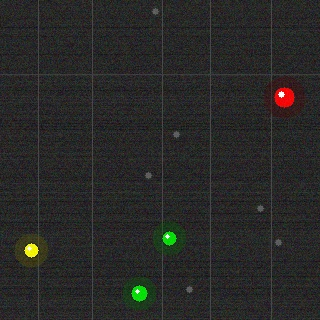green_normal: (129, 283, 149, 303), (160, 229, 178, 247)
red_fault: (272, 85, 296, 109)
yellow_warning: (22, 241, 40, 259)
